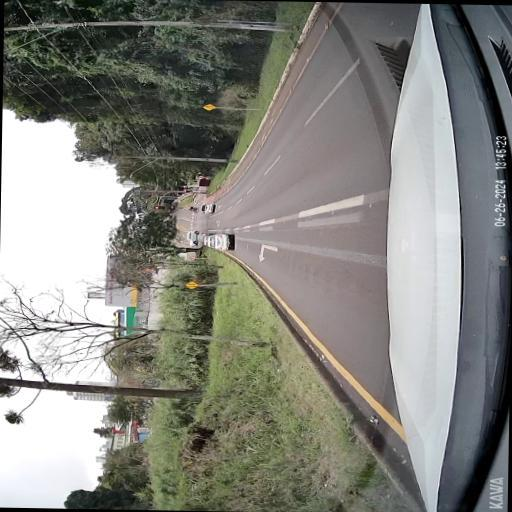A-25: (184, 280, 200, 288), (202, 103, 216, 110)
